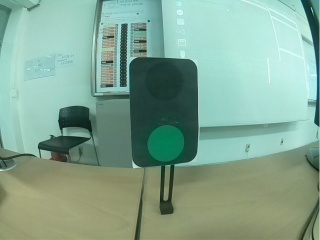green_light: (126, 55, 202, 166)
